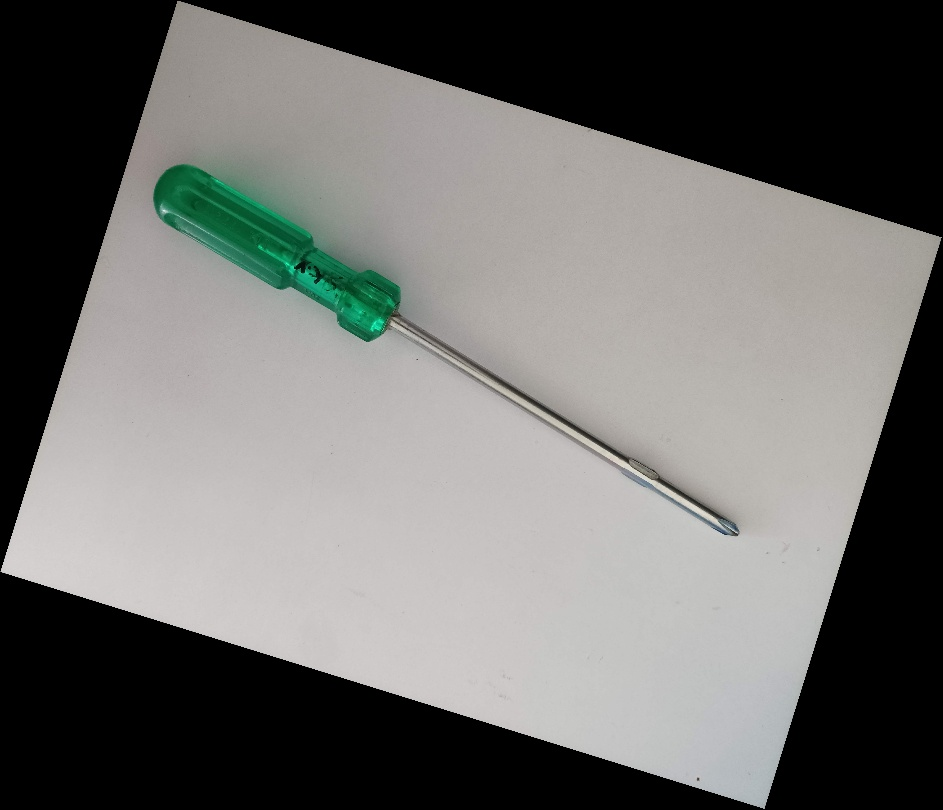screwdriver: (149, 159, 743, 540)
